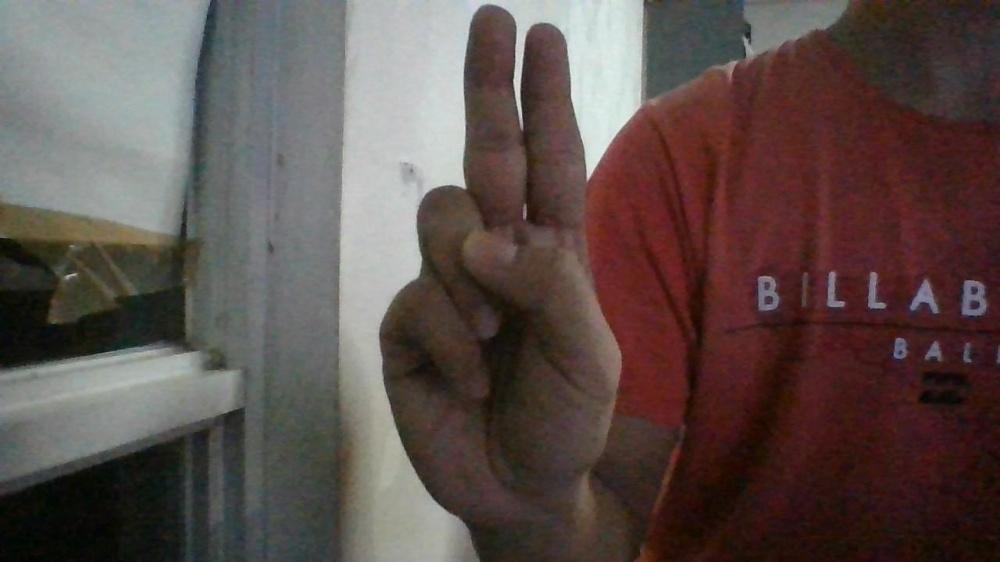u: (374, 3, 625, 526)
